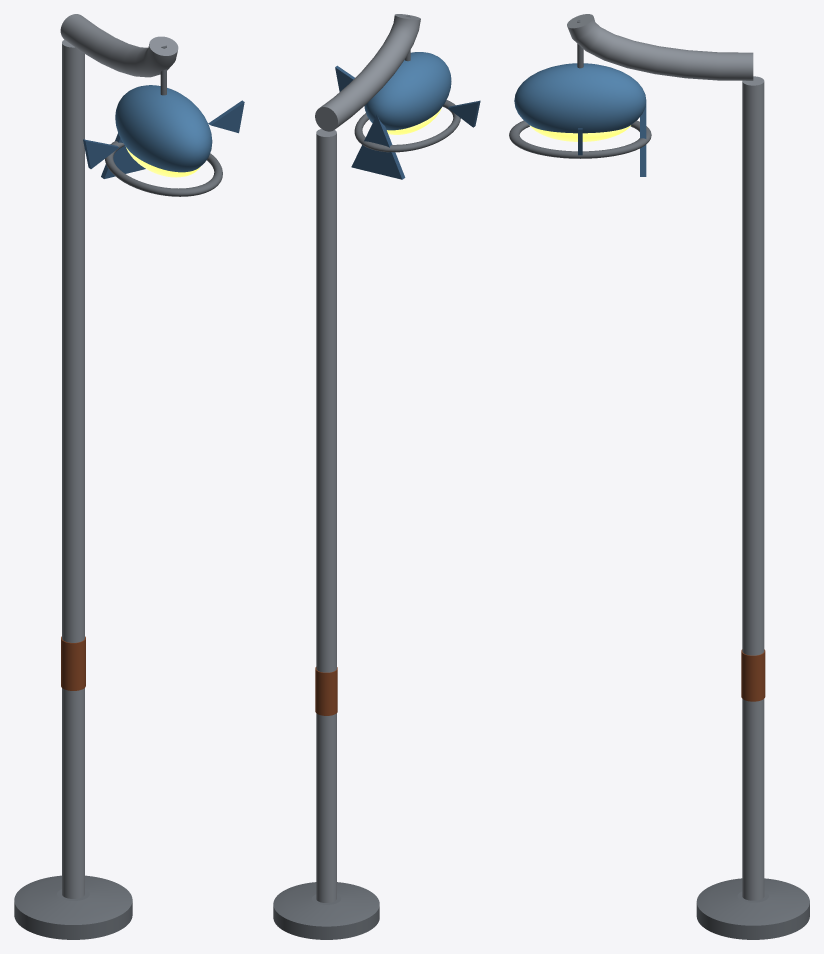
Rendered from zc_street_lamp.glb.
The picture shows the model from 3 angles, left to right: view 1: azimuth 30°, elevation 25°; view 2: azimuth 150°, elevation 25°; view 3: azimuth 270°, elevation 25°; orthographic projection. The views are drawn at different scales.
Visible parts, largest first — view 1: zc_street_lamp, lantern; view 2: zc_street_lamp, lantern; view 3: zc_street_lamp, lantern.
Part boxes in pixels (x1,y1,x2,y2): zc_street_lamp: [14, 14, 178, 939]; lantern: [83, 45, 244, 196]; zc_street_lamp: [273, 14, 420, 939]; lantern: [335, 15, 480, 179]; zc_street_lamp: [567, 14, 809, 939]; lantern: [509, 20, 651, 176].
Size of the model in its own units: 0.56 by 3.15 by 0.9568.
Materials: 1 (1 with a texture image).
